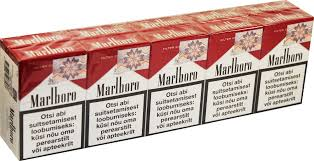marlboro: (18, 60, 85, 153), (88, 51, 147, 139), (151, 42, 205, 126), (261, 22, 311, 106), (210, 36, 258, 116)
